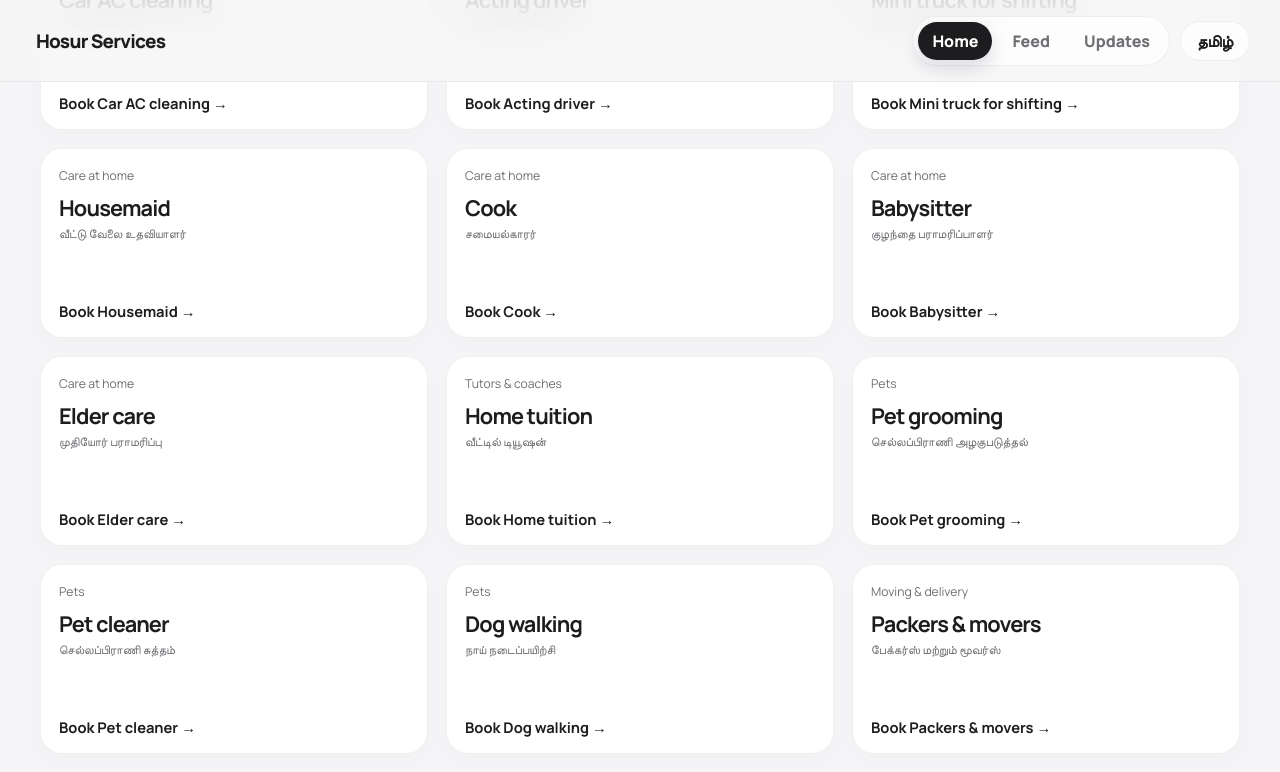
Test: expanded service catalogue › omits the founder matching message for Home tuition
The width and height of the screenshot is (1280, 772).
(page scrolled)
Click the button "Book Home tuition". click: click(513, 383)
box: [446,356,834,546]
(page scrolled)
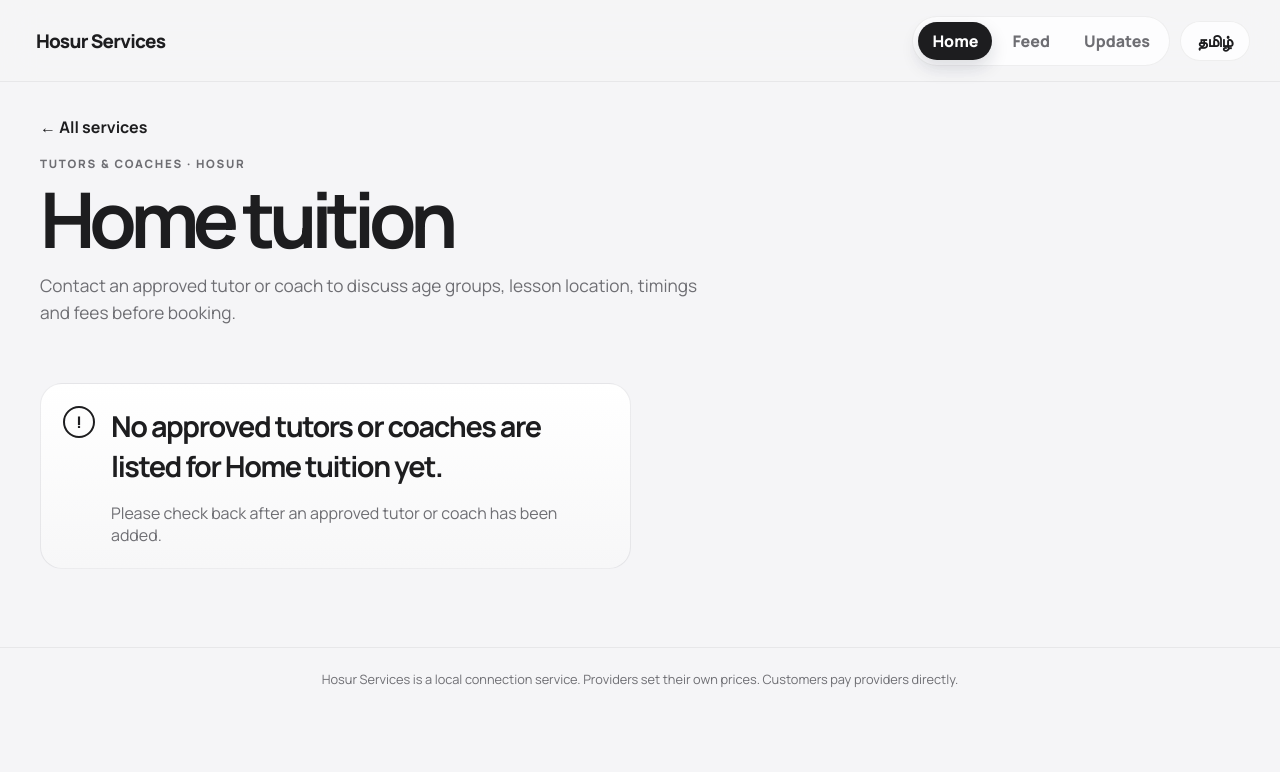
Expected: the 2nd heading is shown, [111,406,608,486]
